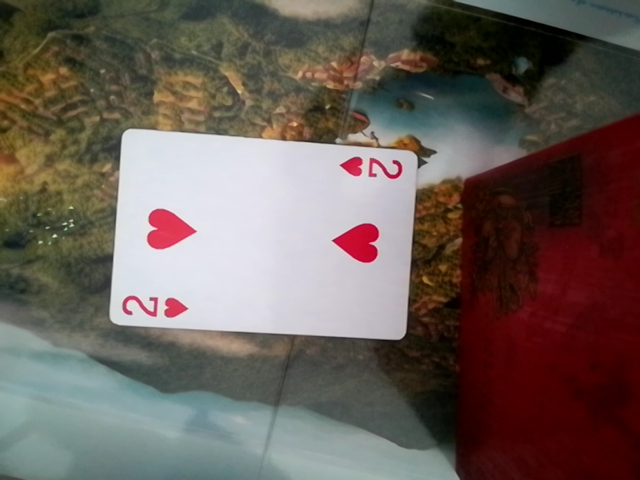hx 2: (105, 131, 418, 344)
